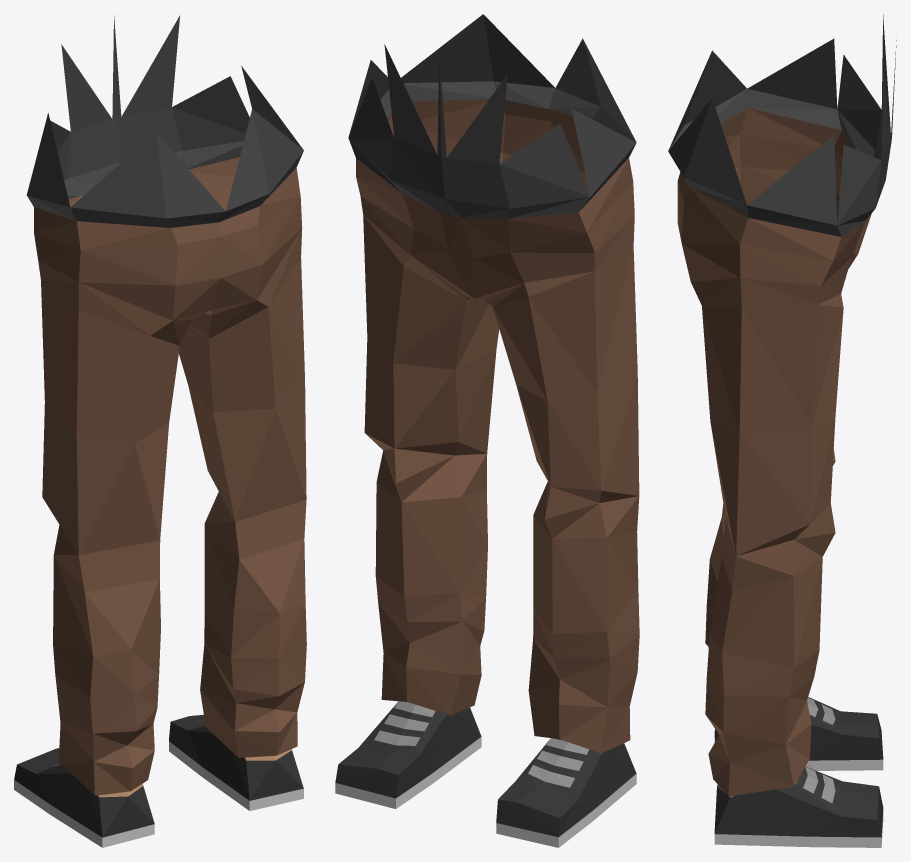
Rendered from Son_01_03_B_Legs.obj.
The picture shows the model from 3 angles, left to right: view 1: azimuth 30°, elevation 25°; view 2: azimuth 150°, elevation 25°; view 3: azimuth 270°, elevation 25°; orthographic projection. The views are drawn at different scales.
Parts seen in each view (by area): view 1: Son_01_03_B_Legs; view 2: Son_01_03_B_Legs; view 3: Son_01_03_B_Legs.
Boxes of the visible parts, left/top/right/bottom form: Son_01_03_B_Legs: left=14, top=15, right=306, bottom=847; Son_01_03_B_Legs: left=335, top=14, right=639, bottom=847; Son_01_03_B_Legs: left=668, top=14, right=896, bottom=847.
Size of the model in its own units: 0.365 by 1.11 by 0.3025.
Materials: 1 (1 with a texture image).
